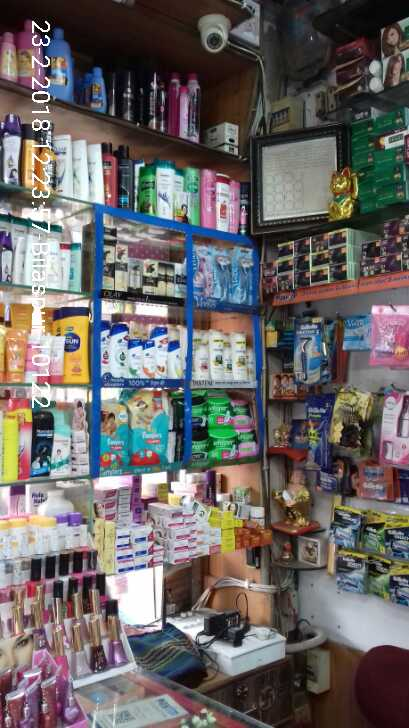gillete: (290, 315, 325, 385), (302, 398, 327, 460), (335, 552, 366, 597), (361, 468, 396, 502), (331, 506, 358, 550), (320, 465, 354, 494), (386, 516, 409, 558), (366, 560, 389, 597), (361, 518, 384, 549), (390, 566, 409, 601)
venus: (234, 248, 260, 302), (210, 248, 234, 302), (343, 316, 375, 348), (195, 248, 210, 292)
